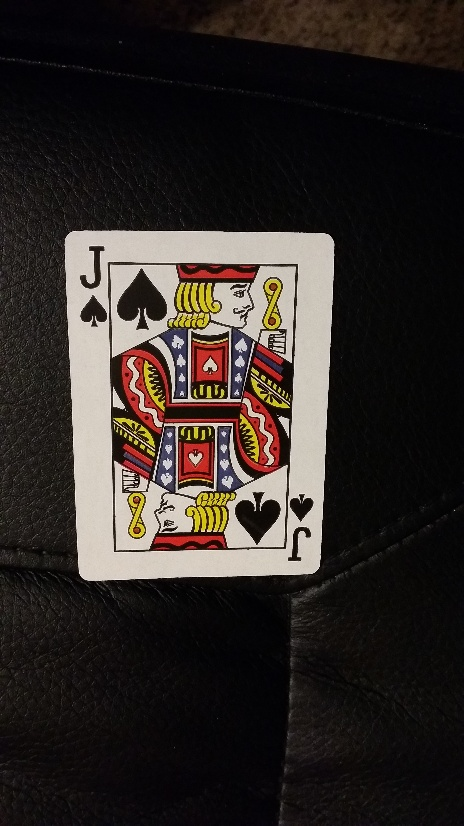Sj: (70, 237, 109, 330), (288, 485, 315, 571)
